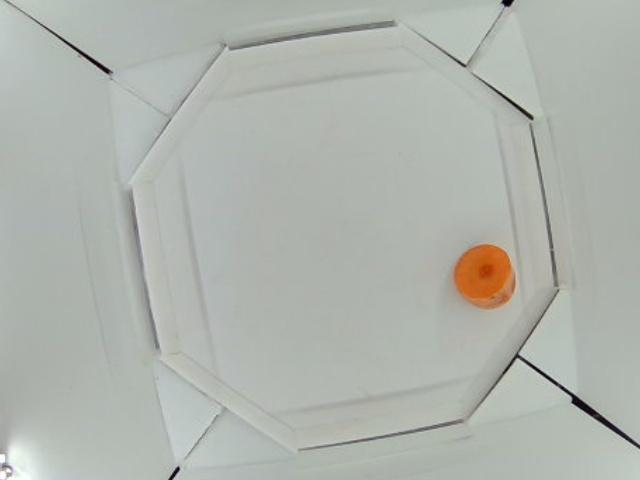Carrot: (458, 245, 516, 308)
